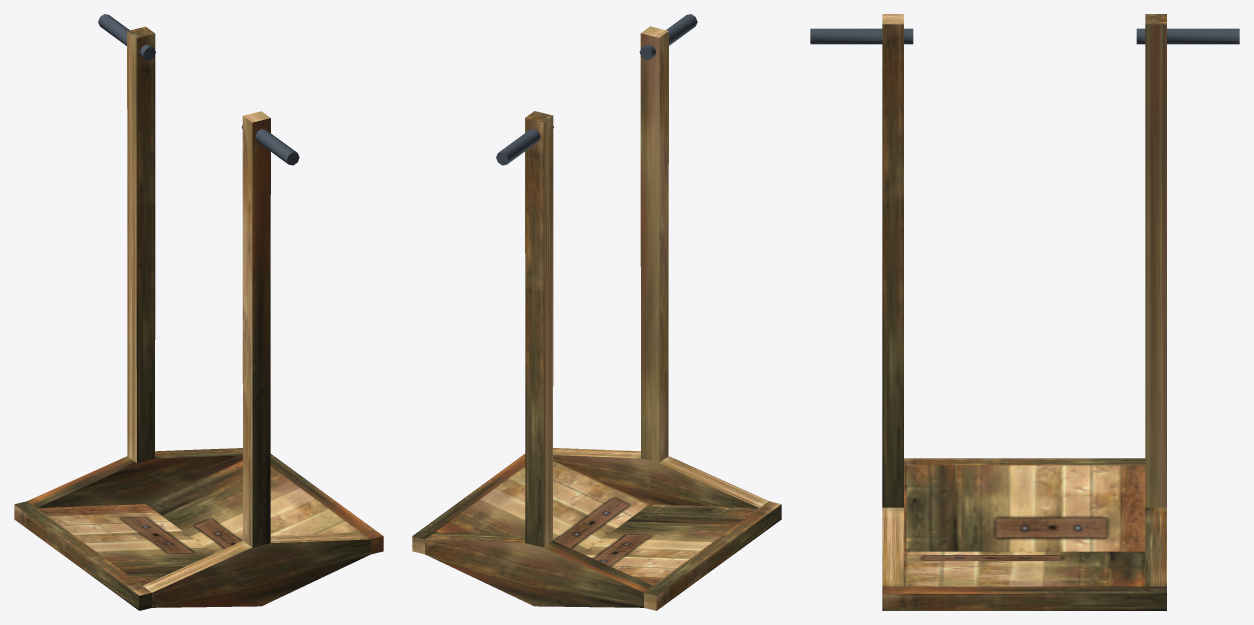
The model's file is P_Modul_08_Schaukel.obj.
The picture shows the model from 3 angles, left to right: view 1: azimuth 30°, elevation 25°; view 2: azimuth 150°, elevation 25°; view 3: azimuth 270°, elevation 25°; orthographic projection. The views are drawn at different scales.
Parts seen in each view (by area): view 1: P_Modul_08_Schaukel; view 2: P_Modul_08_Schaukel; view 3: P_Modul_08_Schaukel.
Boxes of the visible parts, x1,y1,x2,y2 form: P_Modul_08_Schaukel: [14, 14, 383, 610]; P_Modul_08_Schaukel: [412, 14, 781, 610]; P_Modul_08_Schaukel: [810, 14, 1239, 610].
Bounding box in the file's own units: 6.7 × 12.74 × 8.97.
